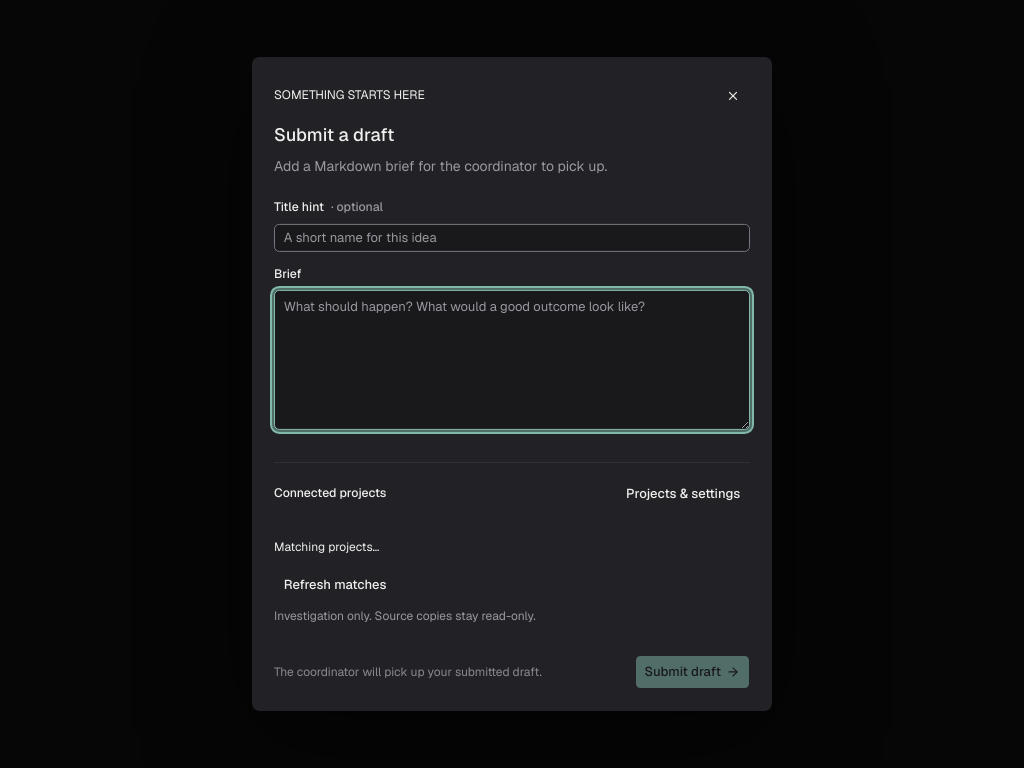
Test: keeps title and brief while project settings are open
The width and height of the screenshot is (1024, 768).
Type "Investigate checkout" into the field labelled "Title hint · optional" at (512, 238), box [274,224,750,252]
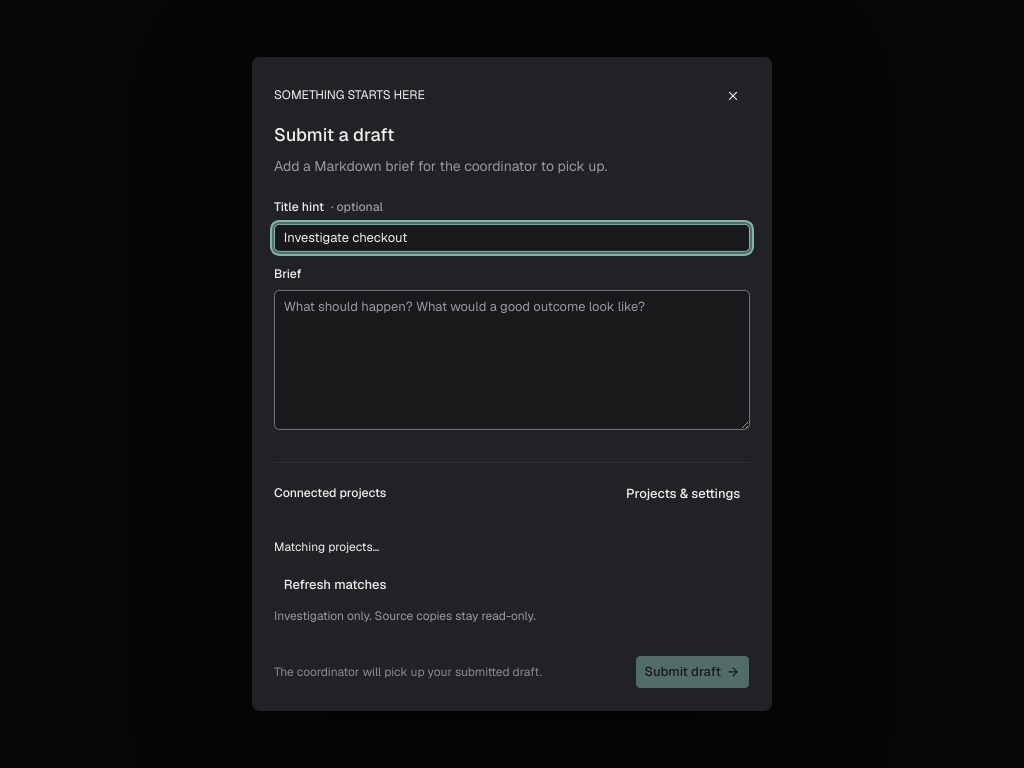
Type "Keep this context" into the text box labelled "Brief" at (512, 360), box [274,290,750,430]
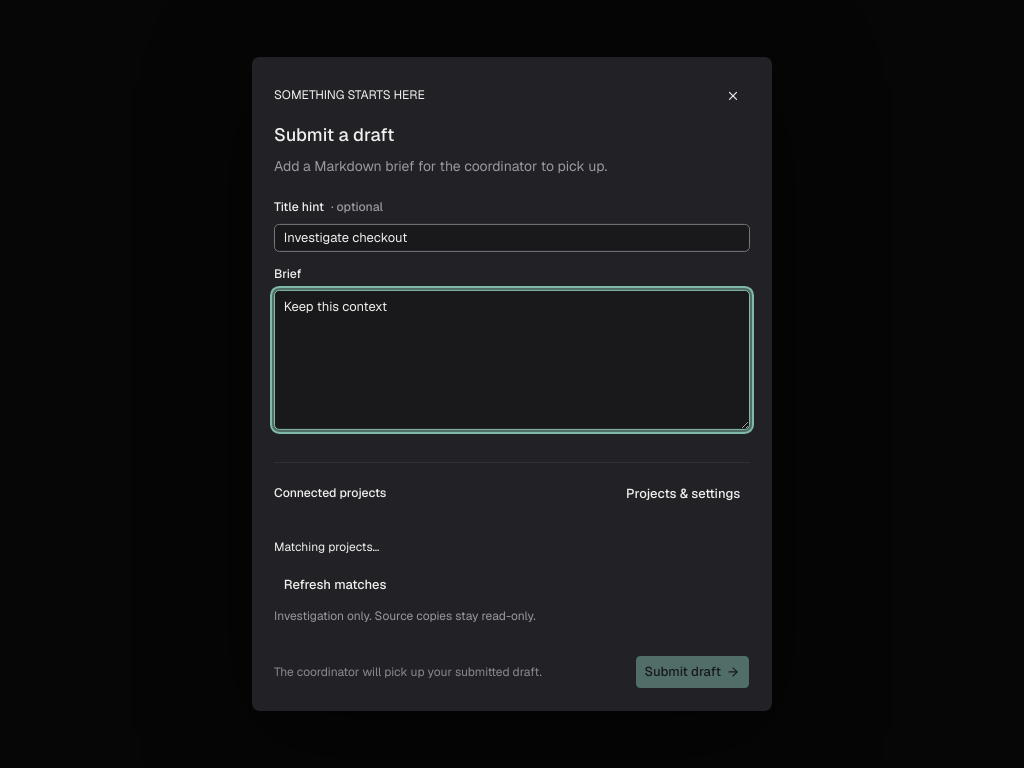
Click the button "Projects & settings" at (683, 494), box [616,477,750,511]
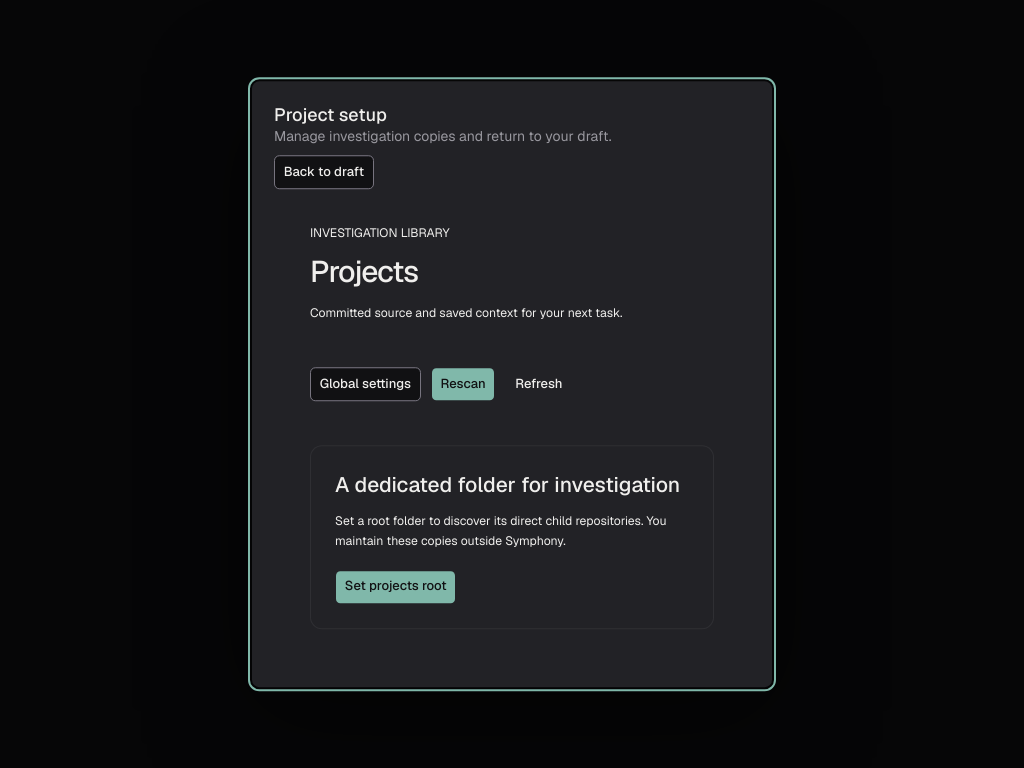
Click the button "Global settings" at (365, 385), box [310,368,421,402]
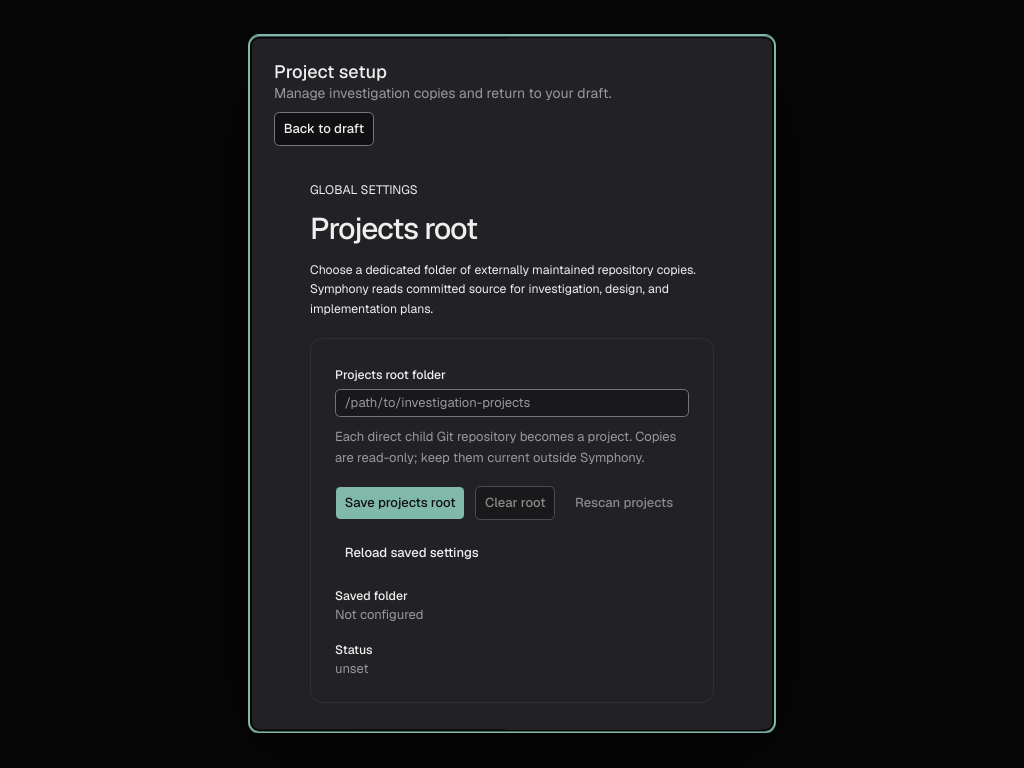
Click the button "Back to draft" at (324, 130), box [274,113,374,147]
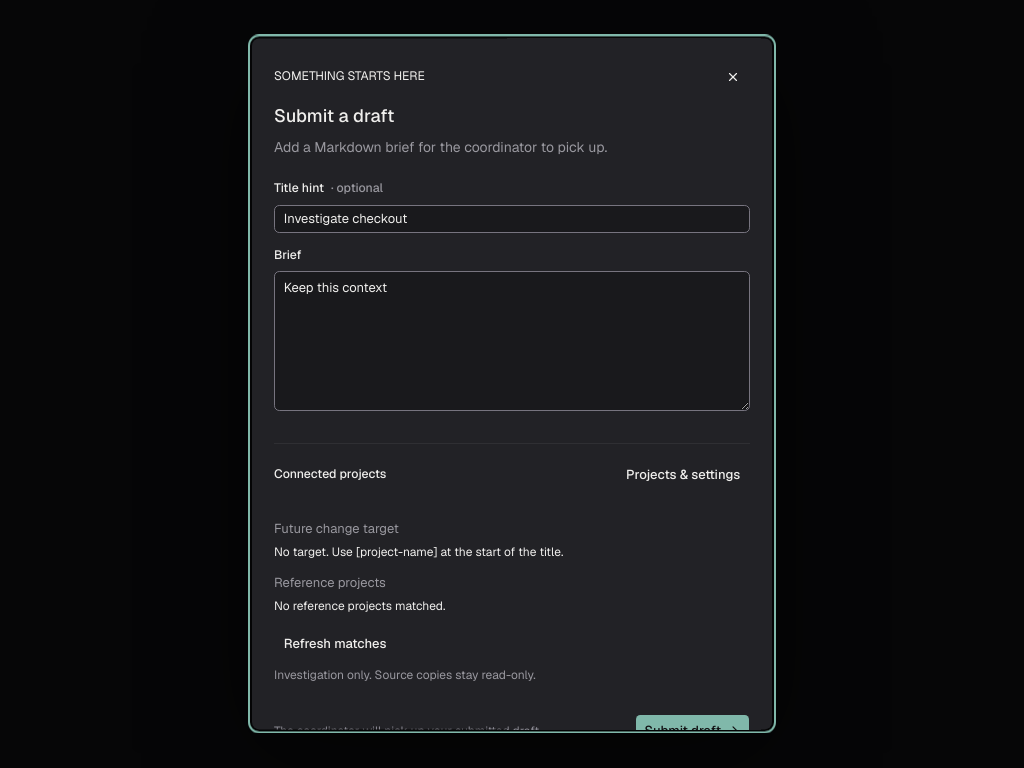
expect the field labelled "Title hint · optional" holds "Investigate checkout": met, box [274,205,750,233]
expect the text box labelled "Brief" holds "Keep this context": met, box [274,271,750,411]
